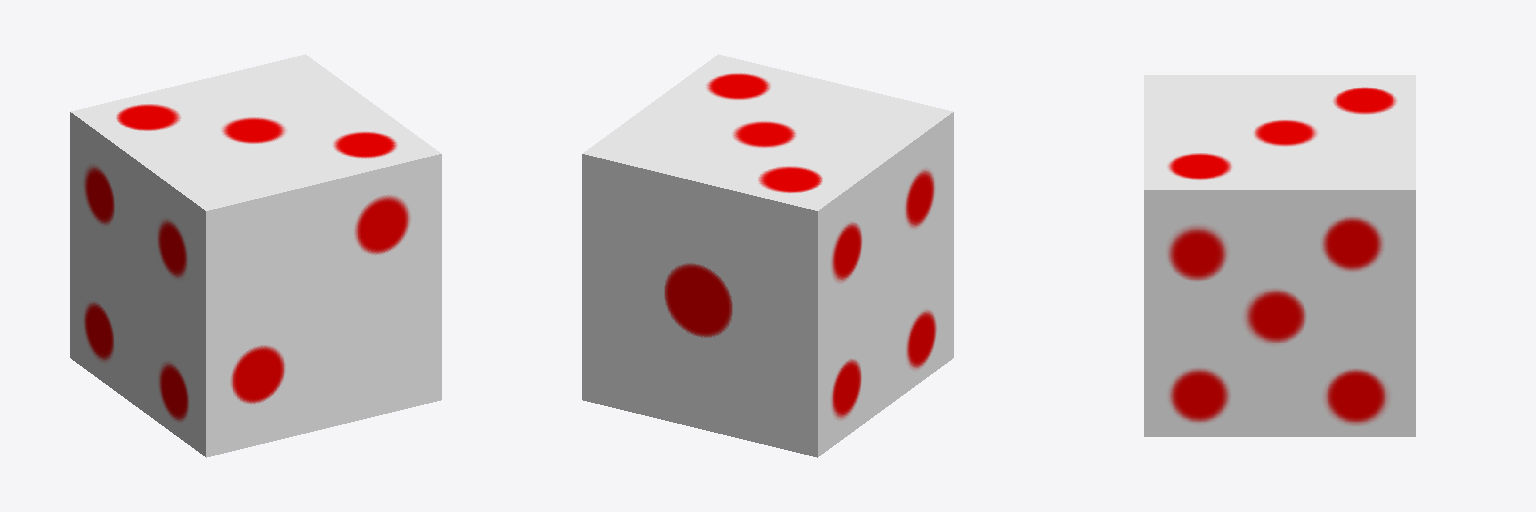
The picture shows the model from 3 angles: view 1: azimuth 30°, elevation 25°; view 2: azimuth 150°, elevation 25°; view 3: azimuth 270°, elevation 25°; orthographic projection.
Parts seen in each view (by area): view 1: Cube; view 2: Cube; view 3: Cube.
Part boxes in pixels (left/top/right/bottom): Cube: left=70, top=54, right=441, bottom=457; Cube: left=582, top=54, right=953, bottom=457; Cube: left=1144, top=75, right=1415, bottom=436.
Size of the model in its own units: 2 by 2 by 2.
Materials: 1 (1 with a texture image).